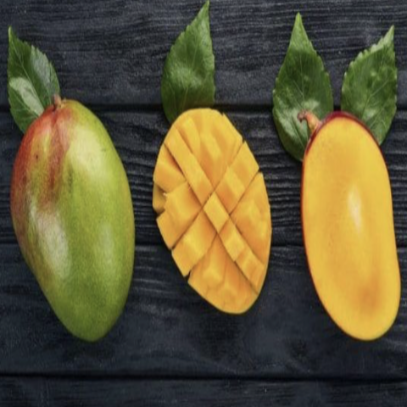mango: (6, 86, 141, 353), (146, 106, 274, 350), (288, 98, 407, 347)
